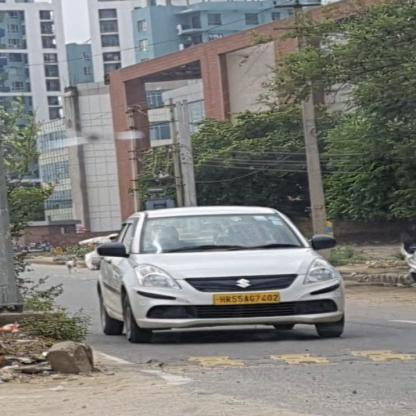car: (96, 205, 346, 343)
